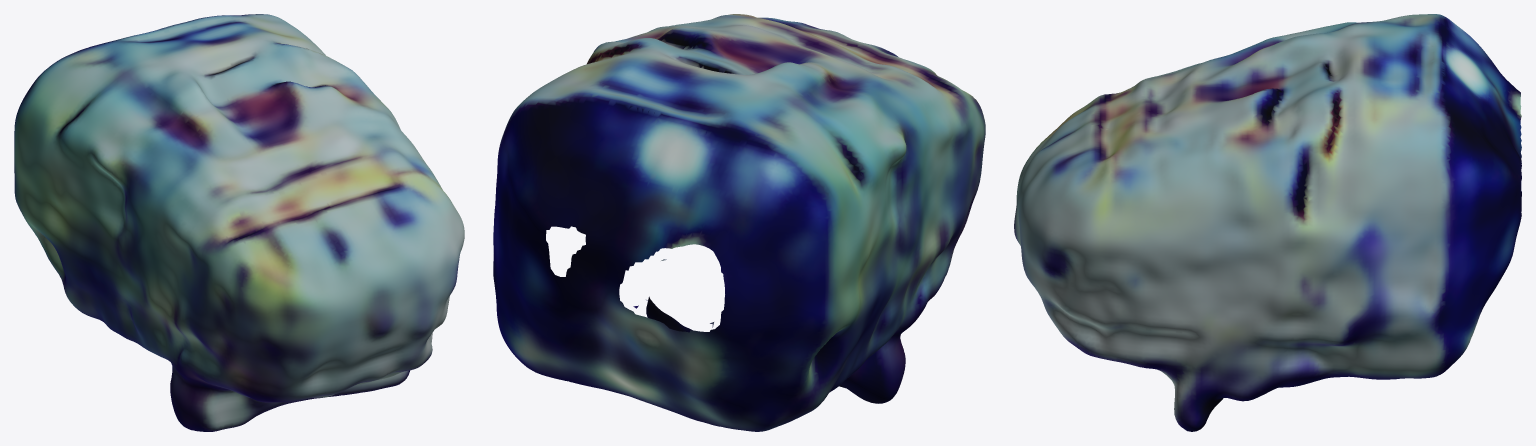
File: backpack.glb
3 views of the same model, side by side, from view 1: azimuth 30°, elevation 25°; view 2: azimuth 150°, elevation 25°; view 3: azimuth 270°, elevation 25° (orthographic). The views are drawn at different scales.
Size of the model in its own units: 0.7302 by 0.7136 by 0.9997.
